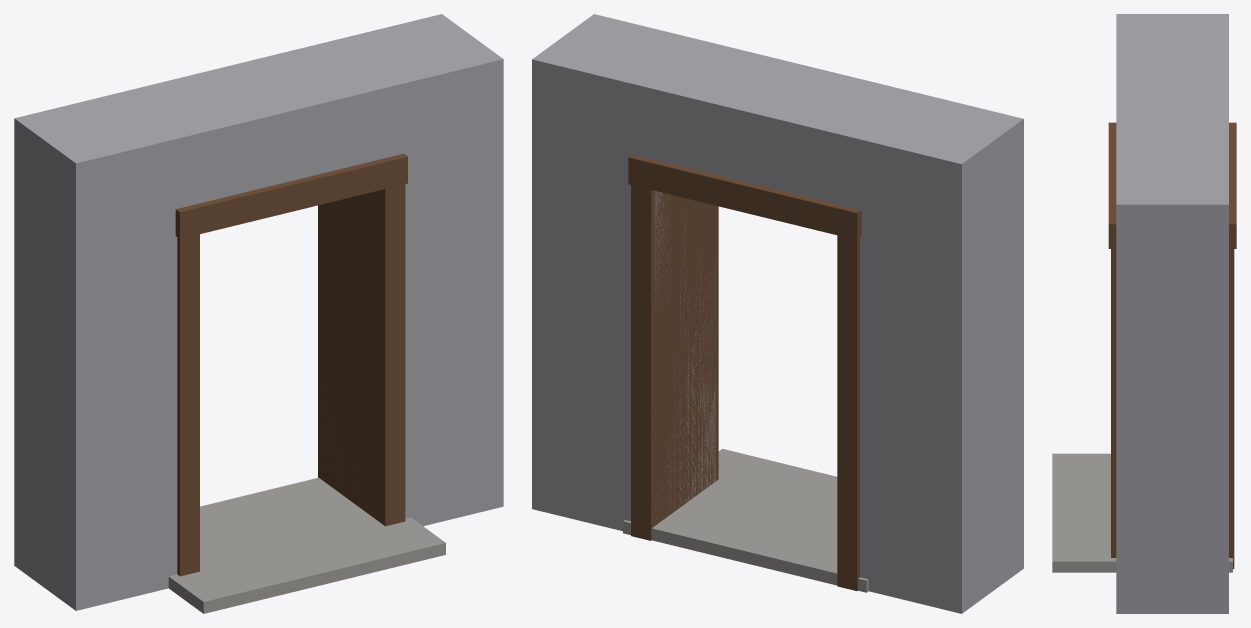
The model's file is entrance_wall.glb.
3 renders of one model, left to right at view 1: azimuth 30°, elevation 25°; view 2: azimuth 150°, elevation 25°; view 3: azimuth 270°, elevation 25°, orthographic. The views are drawn at different scales.
Parts seen in each view (by area): view 1: JambL, JambR, Post0.001, Over, Step, Post0, Lintel; view 2: JambL, JambR, Post0.001, Over, Step, Post0, Lintel; view 3: JambR, Over, Step, JambL, Post0.001, Lintel.
Part boxes in pixels (x1,y1,x2,y2): JambL: (14, 89, 197, 610); JambR: (321, 14, 503, 526); Post0.001: (318, 184, 405, 526); Over: (136, 43, 382, 203); Step: (168, 477, 445, 613); Post0: (177, 234, 199, 576); Lintel: (175, 153, 407, 238); JambL: (840, 89, 1023, 613); JambR: (532, 14, 715, 531); Post0.001: (631, 185, 718, 540); Over: (654, 44, 901, 204); Step: (623, 449, 868, 592); Post0: (837, 235, 859, 590); Lintel: (628, 154, 861, 240); JambR: (1116, 150, 1228, 613); Over: (1116, 68, 1228, 150); Step: (1052, 453, 1232, 572); JambL: (1116, 14, 1228, 67); Post0.001: (1111, 249, 1234, 568); Lintel: (1108, 122, 1236, 248).
Size of the model in its own units: 3 by 3 by 1.23.
